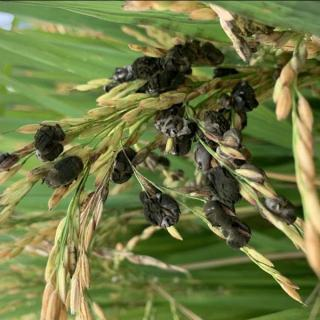Gosong-Palsu: (109, 40, 283, 242), (34, 125, 82, 186), (0, 150, 20, 174)
